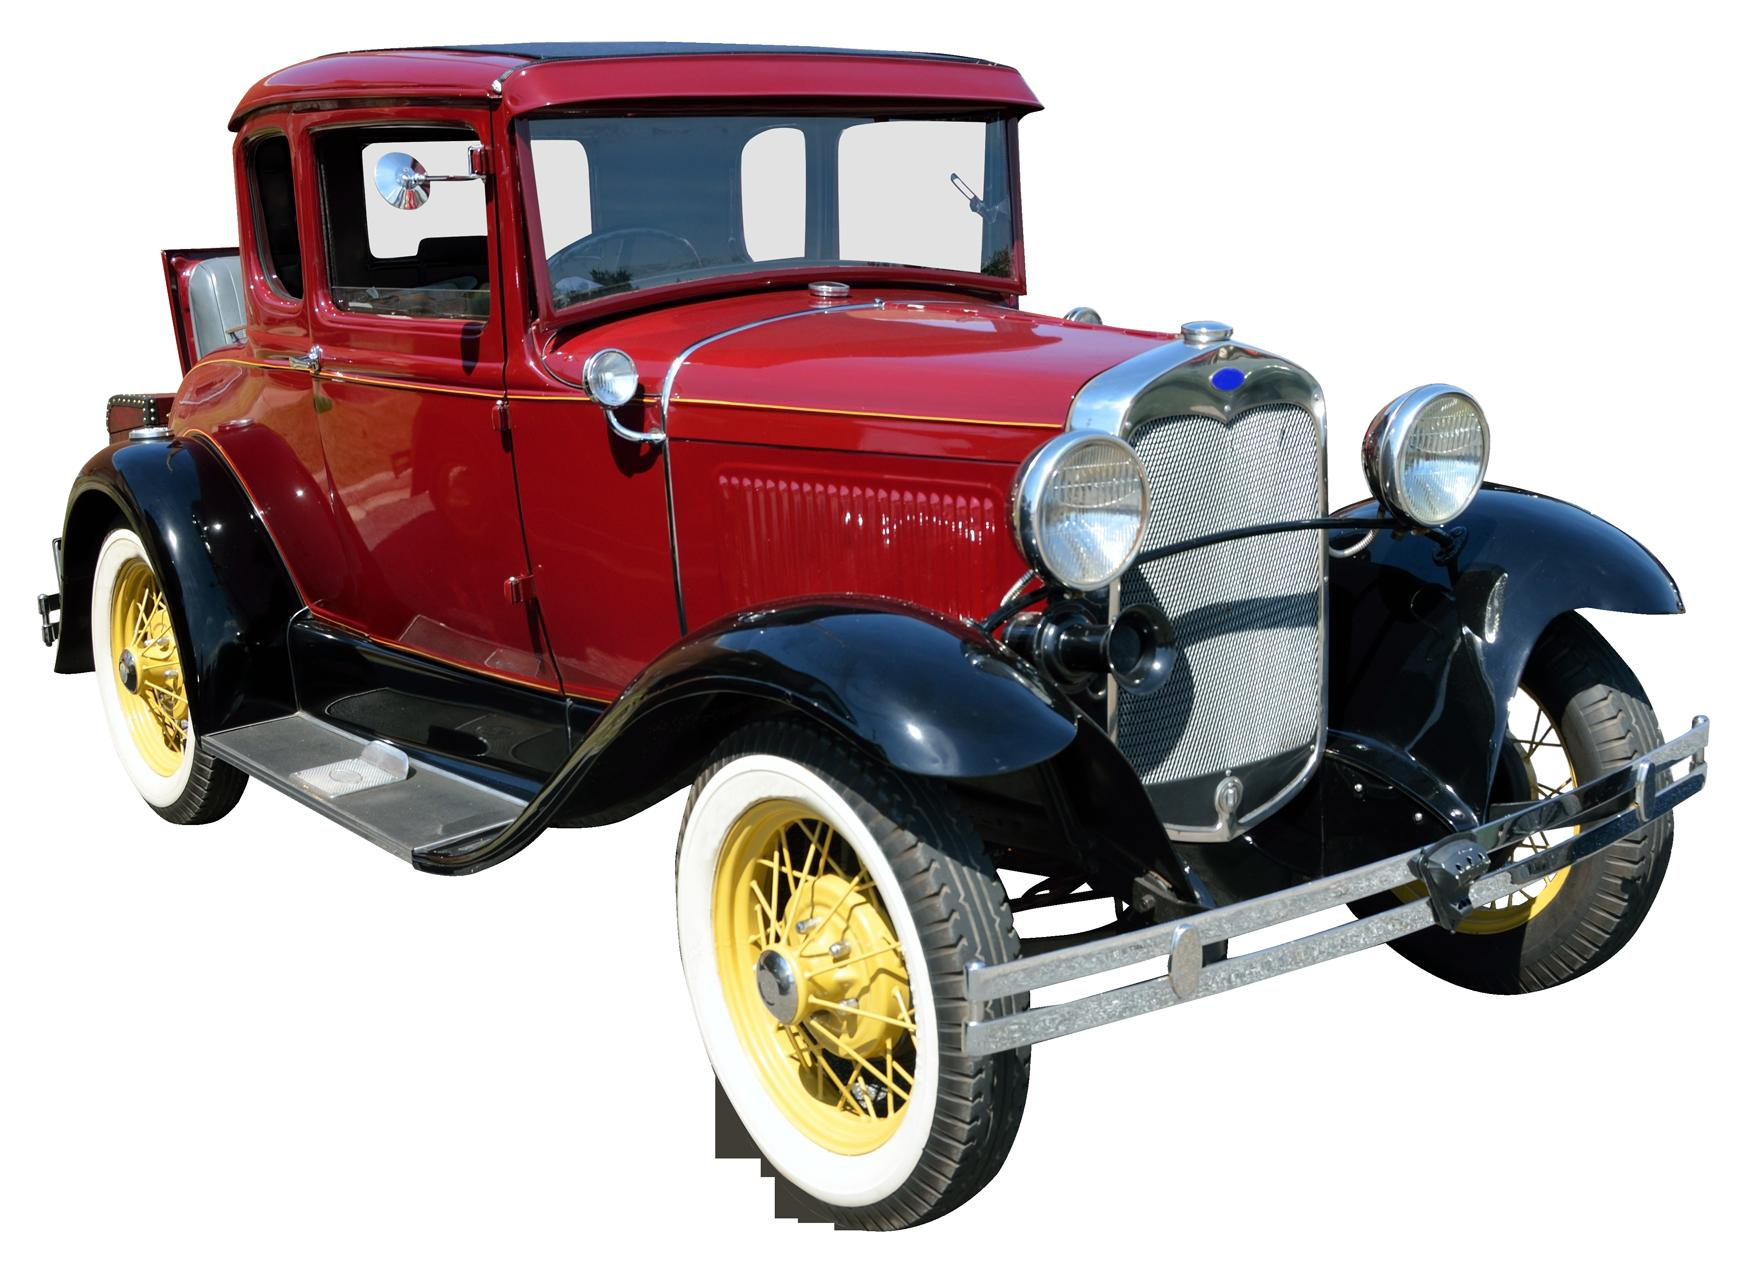Car: (58, 62, 1704, 1119)
